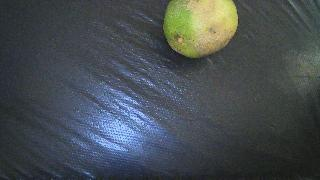DESECHO: (163, 0, 238, 58)
